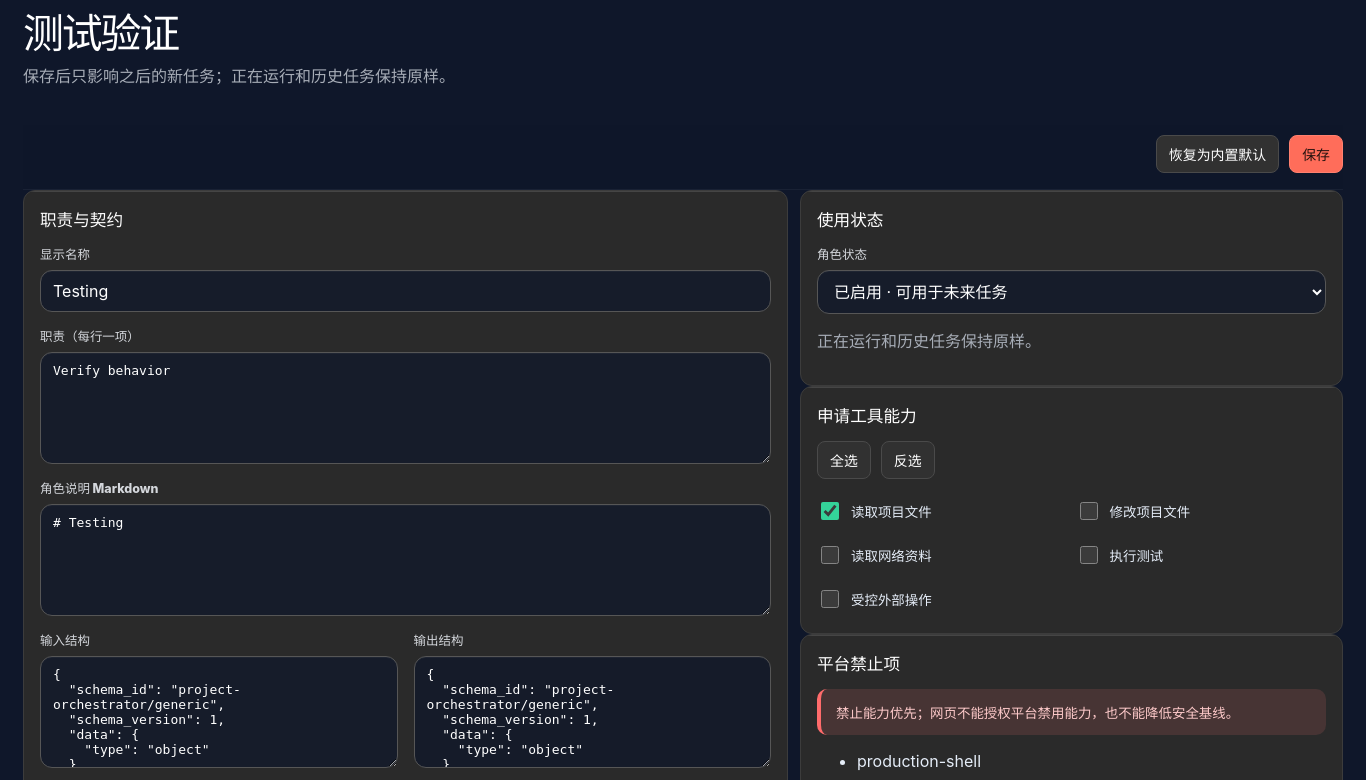
Test: reloads the editable role after resetting a built-in role
Expected: the field labelled "显示名称" holds "Testing", [40, 270, 771, 312]
Click the button "恢复为内置默认". click: point(1217, 154)
box: [1156, 135, 1279, 173]
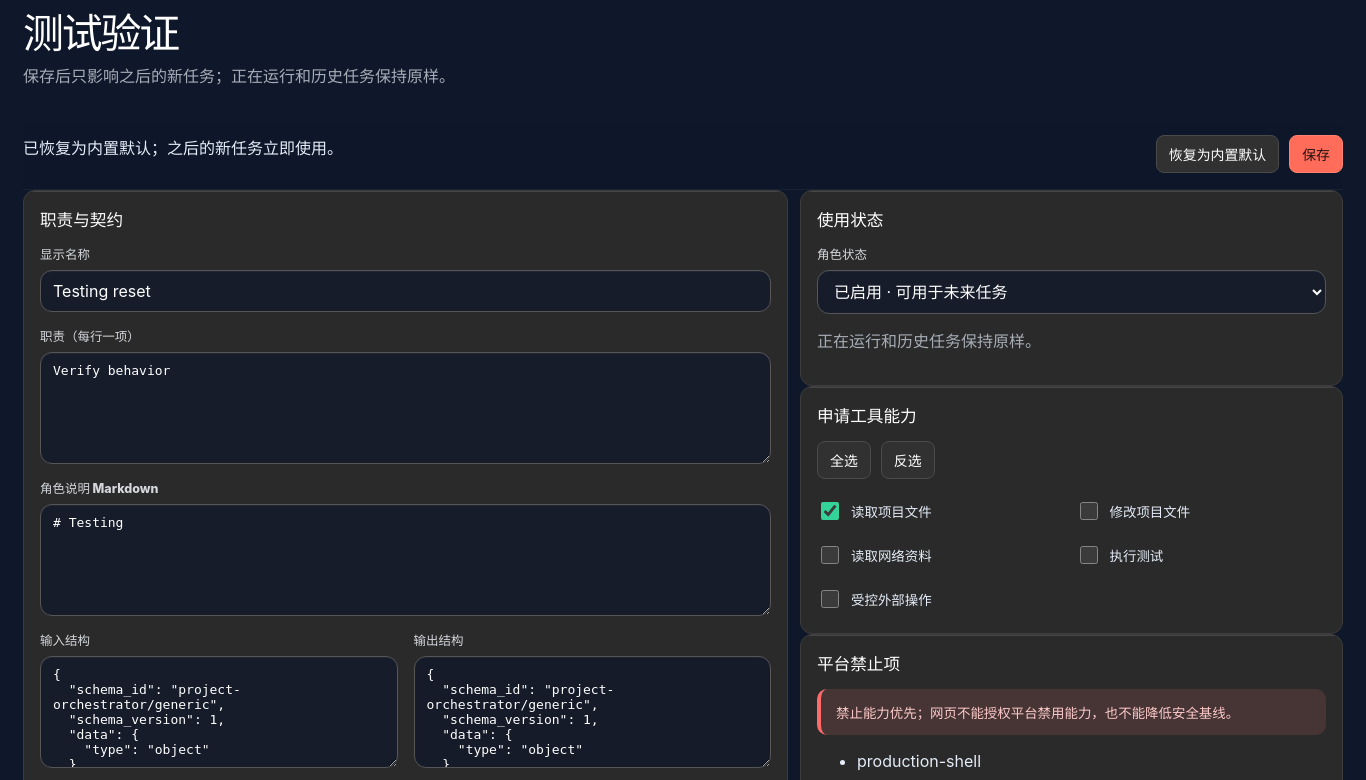
Expected: the field labelled "显示名称" holds "Testing reset", [40, 270, 771, 312]
